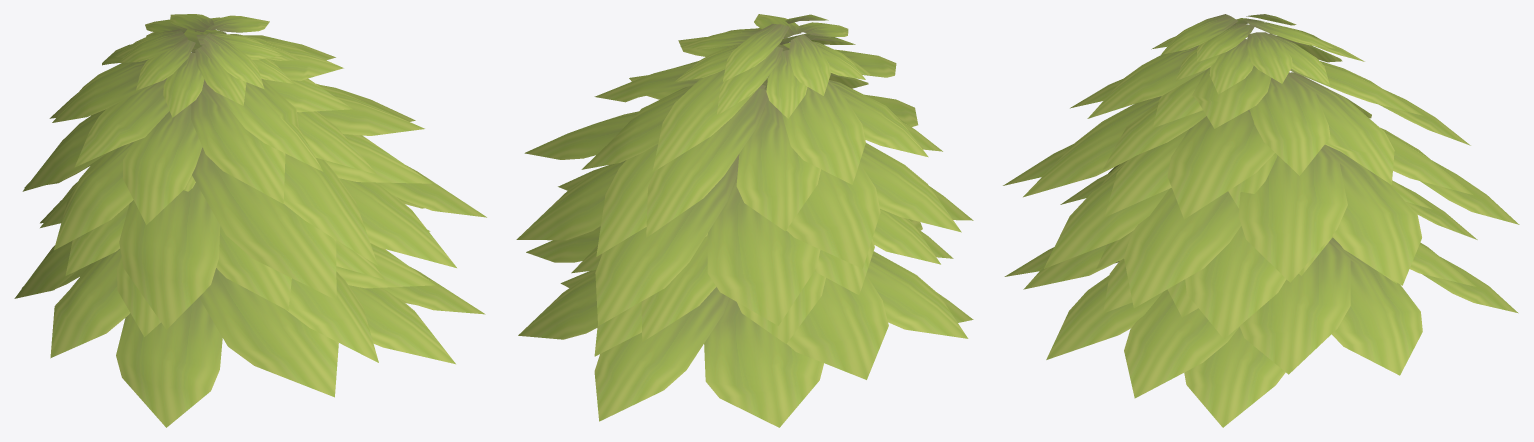
File: bush1.fbx
3 views of the same model, side by side, from view 1: azimuth 30°, elevation 25°; view 2: azimuth 150°, elevation 25°; view 3: azimuth 270°, elevation 25° (orthographic). The views are drawn at different scales.
Visible parts, largest first — view 1: Plane.010; view 2: Plane.010; view 3: Plane.010.
Part boxes in pixels (left/top/right/bottom): Plane.010: left=14, top=14, right=486, bottom=427; Plane.010: left=516, top=14, right=973, bottom=427; Plane.010: left=1003, top=14, right=1519, bottom=427.
Size of the model in its own units: 302 by 230 by 357.
